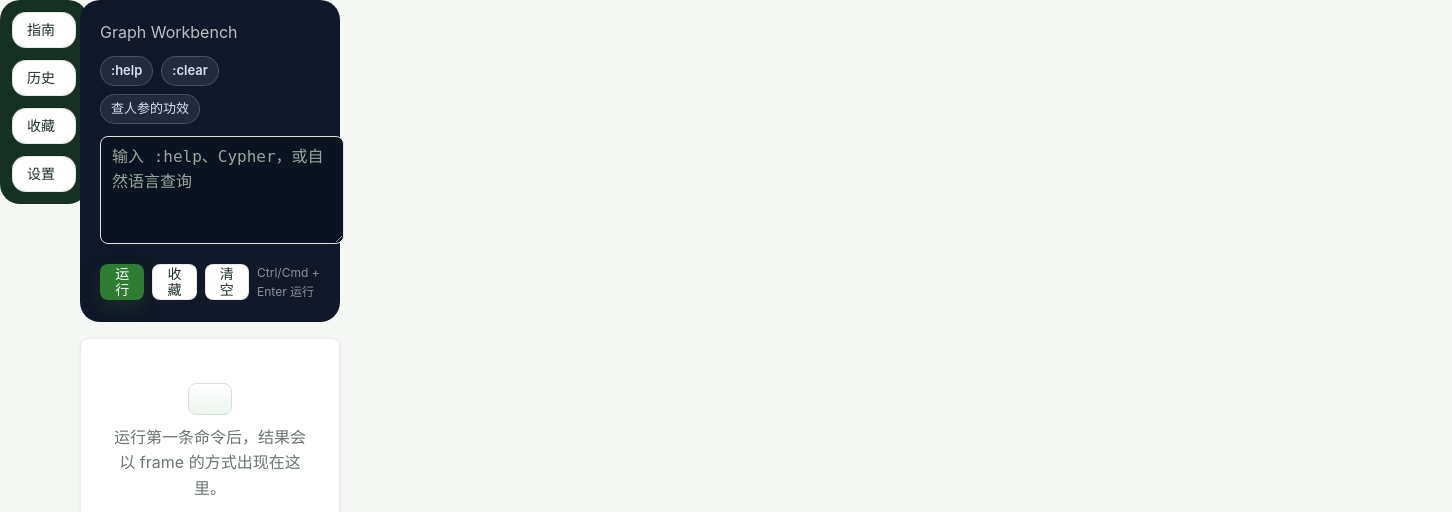
GraphWorkbenchPage › opens the history drawer from the rail
Click the button with aria-label "打开历史抽屉".
click(44, 78)  # box 12,60 -> 76,96
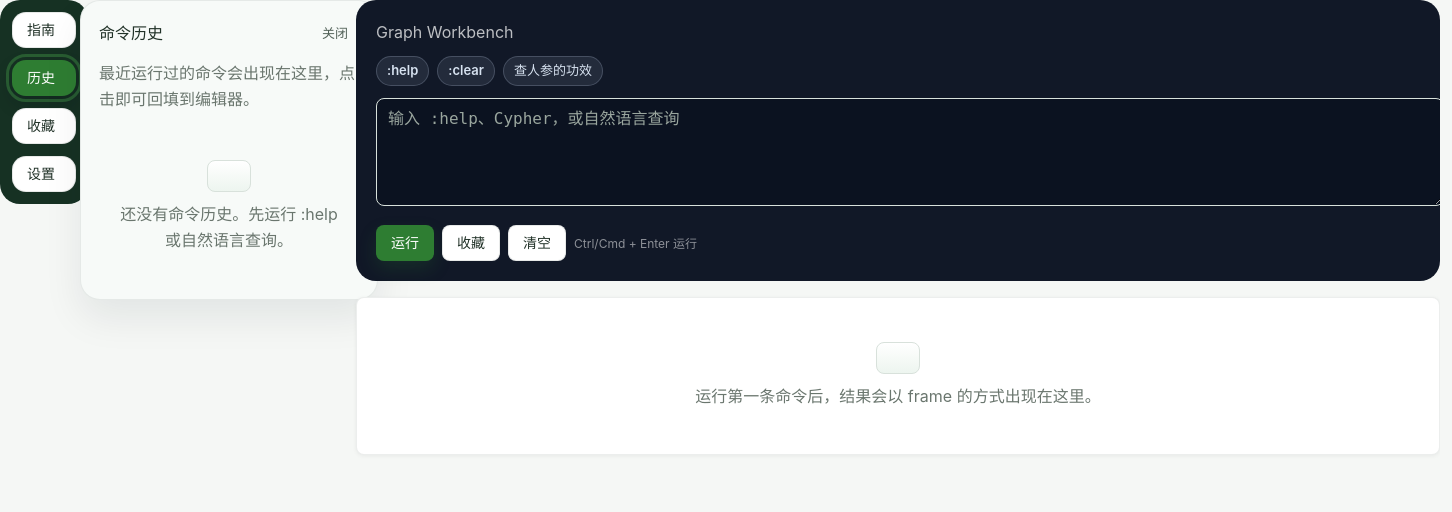
Expected: the text "命令历史" is shown, 99,21 -> 163,47
